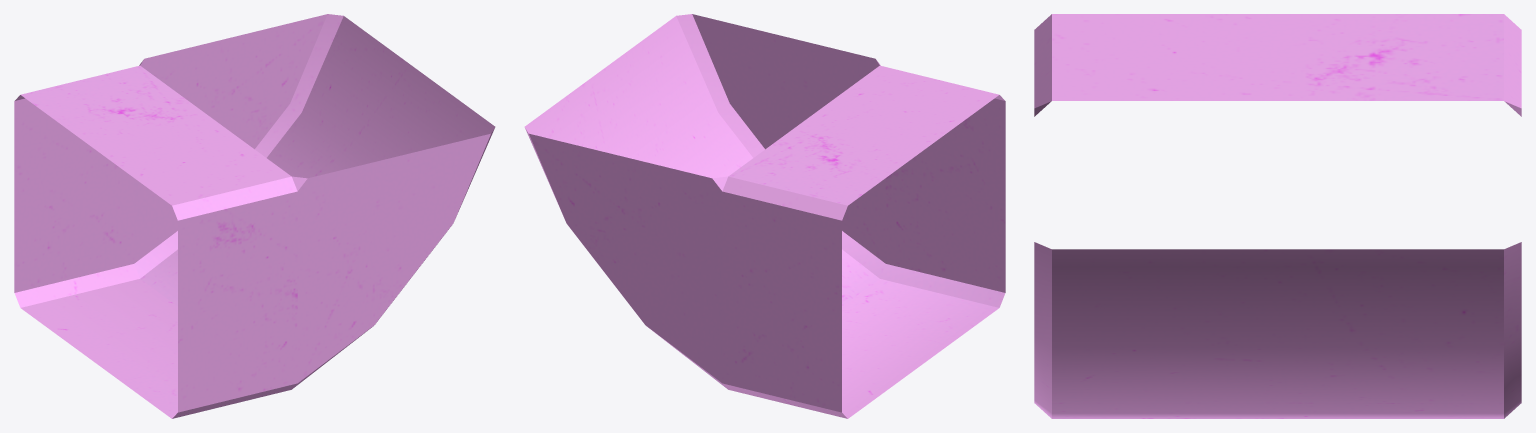
Rendered from AirDuctVertical_01_SM_Low.fbx.
The picture shows the model from 3 angles, left to right: view 1: azimuth 30°, elevation 25°; view 2: azimuth 150°, elevation 25°; view 3: azimuth 270°, elevation 25°; orthographic projection. The views are drawn at different scales.
Visible parts, largest first — view 1: Vertical; view 2: Vertical; view 3: Vertical.
Boxes of the visible parts, x1,y1,x2,y2 form: Vertical: (14, 14, 495, 418); Vertical: (524, 14, 1005, 418); Vertical: (1034, 14, 1521, 418).
Size of the model in its own units: 102 by 64 by 88.9.
1 material, 1 textured.
